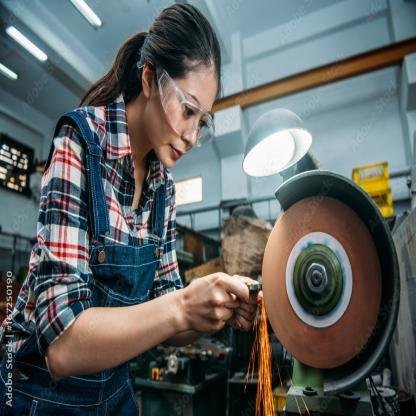oculos: (160, 77, 217, 148)
